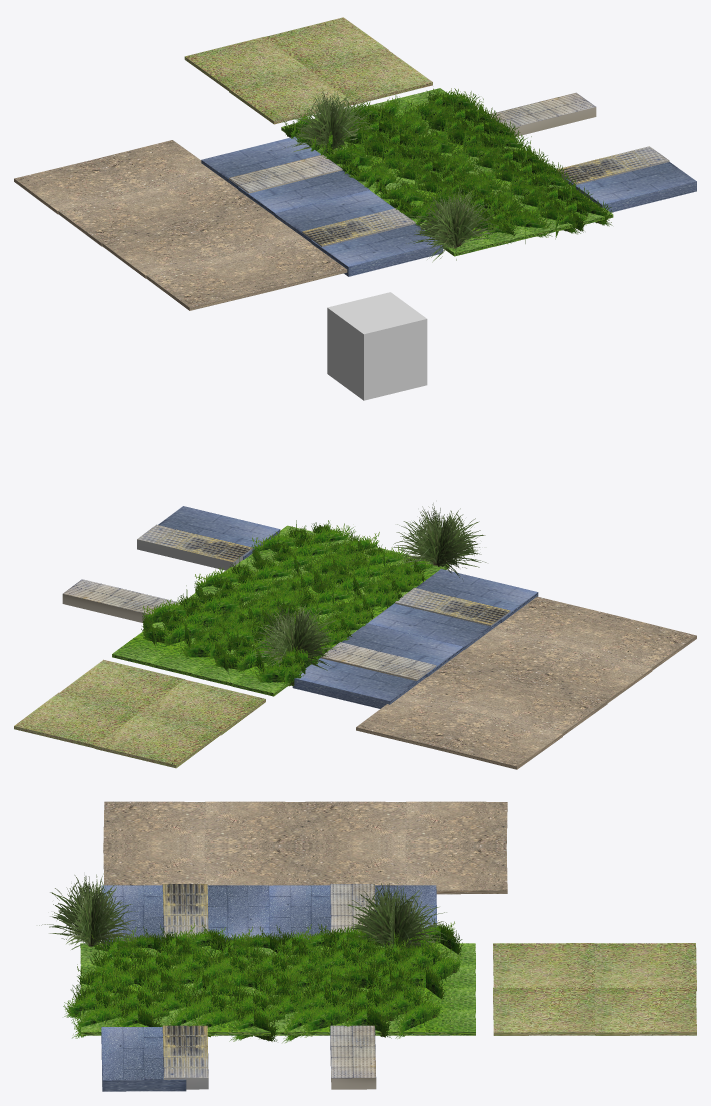
The model's file is NewerZealandMaster Scene.fbx.
3 renders of one model, top to bottom at view 1: azimuth 30°, elevation 25°; view 2: azimuth 150°, elevation 25°; view 3: azimuth 270°, elevation 25°, orthographic. The views are drawn at different scales.
Visible parts, largest first — view 1: Cube.028, Cube.026, Cube, Plane.004, Plane.006, Plane.002, Plane.005, Plane.037, Cube.019, Cube.015, Cube.016, Cube.014 (+15 smaller); view 2: Cube.026, Cube.028, Plane.004, Plane.006, Plane.003, Plane.005, Cube.016, Cube.020, Plane.037, Cube.015, Plane.002, Cube.004 (+17 smaller); view 3: Cube.026, Cube.028, Plane.004, Plane.006, Plane.005, Plane.003, Plane.037, Plane.002, Cube.020, Cube.019, Cube.016, Cube.015 (+17 smaller).
Part boxes in pixels (x1,y1,x2,y2): Cube.028: (102, 204, 347, 310); Cube.026: (14, 140, 257, 246); Cube: (327, 292, 427, 400); Plane.004: (370, 88, 520, 153); Plane.006: (463, 168, 612, 243); Plane.002: (337, 140, 489, 200); Plane.005: (419, 129, 567, 190); Plane.037: (283, 101, 437, 166); Cube.019: (308, 50, 432, 104); Cube.015: (229, 69, 352, 124); Cube.016: (184, 37, 308, 90); Cube.014: (565, 162, 696, 212); Cube.026: (356, 662, 607, 769); Cube.028: (447, 596, 696, 702); Plane.004: (141, 585, 270, 660); Plane.006: (250, 520, 379, 583); Plane.003: (308, 543, 432, 608); Plane.005: (194, 556, 322, 622); Cube.016: (94, 712, 220, 768); Cube.020: (14, 692, 139, 748); Plane.037: (212, 610, 337, 686); Cube.015: (140, 679, 265, 735); Plane.002: (257, 580, 383, 646); Cube.004: (292, 658, 426, 708); Cube.026: (305, 801, 507, 894); Cube.028: (103, 801, 306, 885); Plane.004: (292, 960, 445, 1038); Plane.006: (63, 959, 216, 1038); Plane.005: (180, 964, 331, 1042); Plane.003: (83, 922, 233, 992); Plane.037: (312, 917, 463, 990); Plane.002: (202, 924, 348, 992); Cube.020: (594, 987, 696, 1035); Cube.019: (493, 987, 595, 1035); Cube.016: (594, 943, 696, 991); Cube.015: (493, 943, 595, 987).
Bounding box in the file's own units: 1596 × 743 × 1631.
